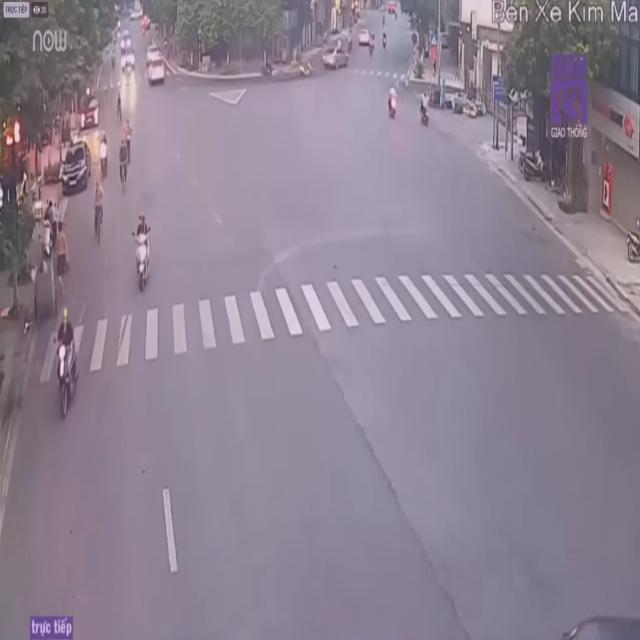motorbike: (54, 310, 80, 412), (133, 213, 154, 296), (384, 82, 397, 122), (420, 92, 430, 131)
